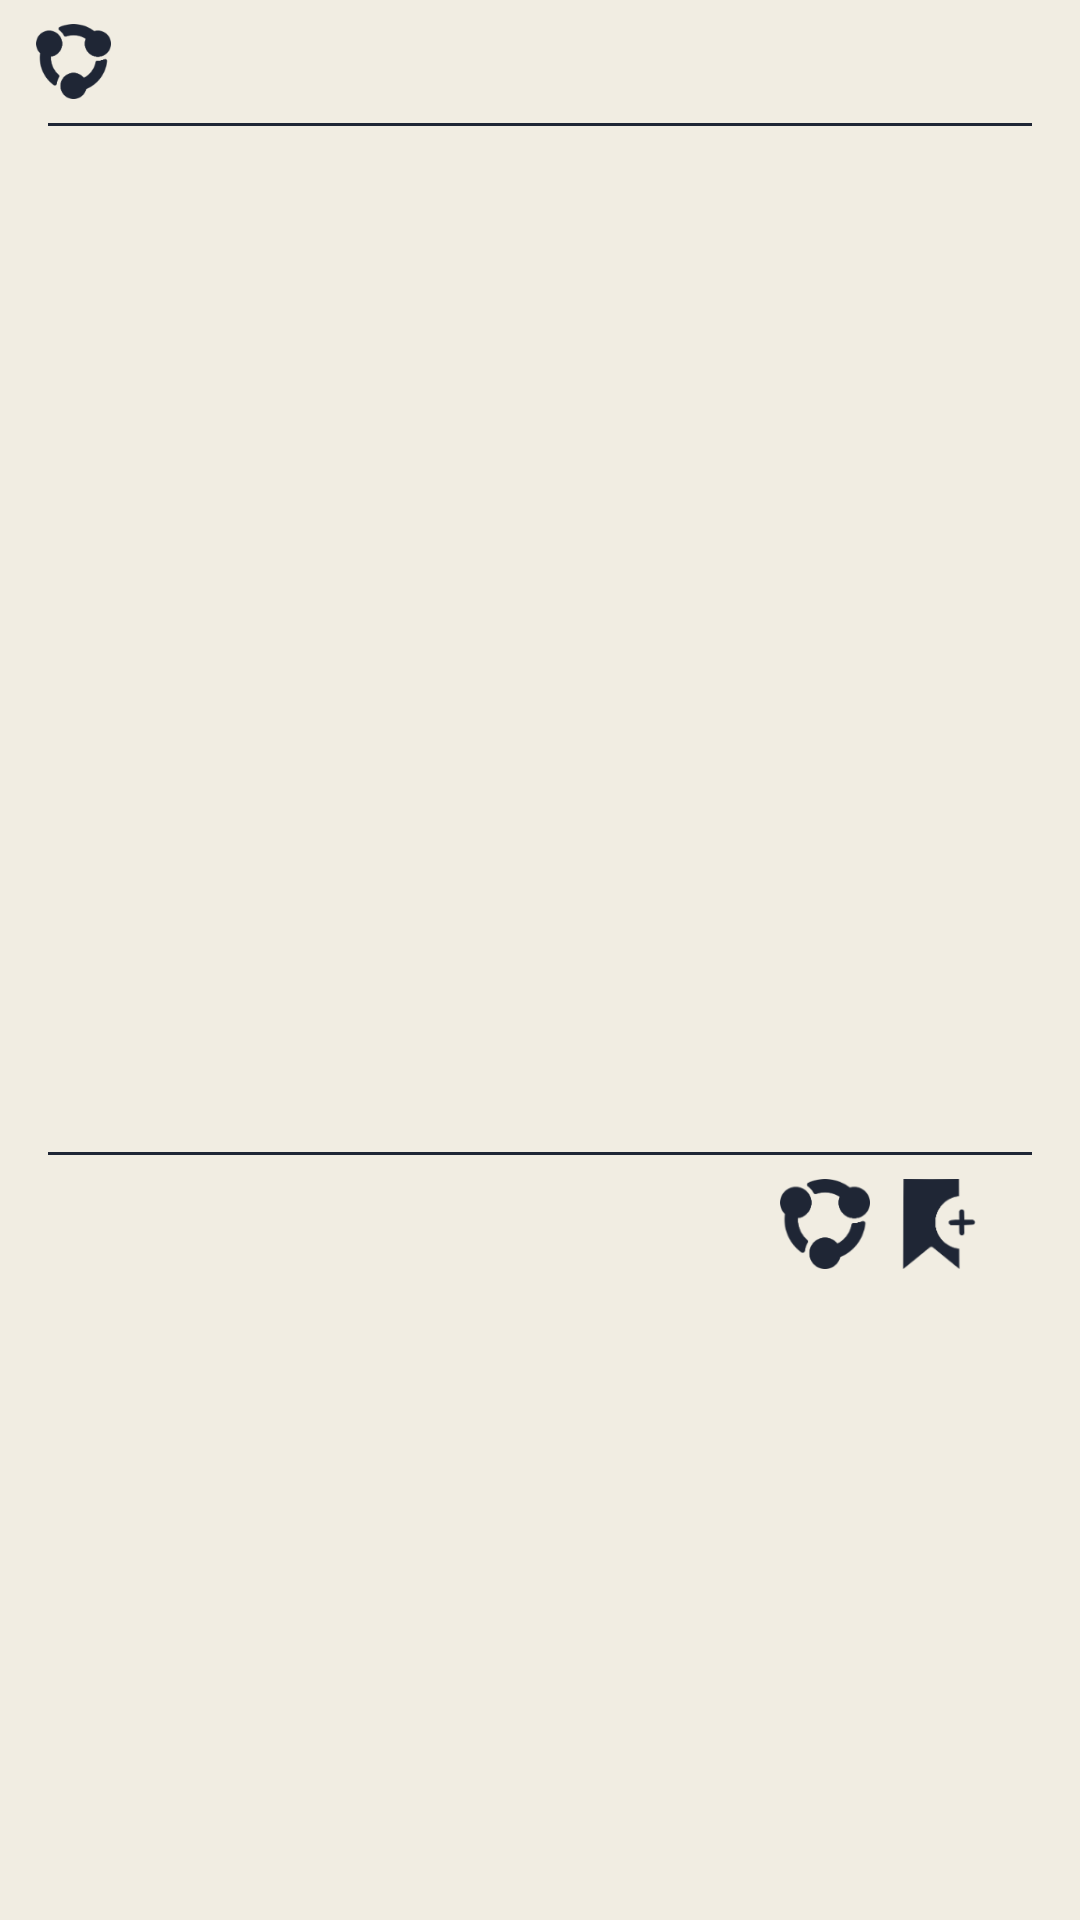

Screen size 1080px×1920px. Icon name, then its box in pixels as (x1, y1, x2, y2):
Bookmark Post: (902, 1179, 976, 1269)
reblog: (36, 24, 111, 99)
Reblog Post: (780, 1179, 870, 1269)
